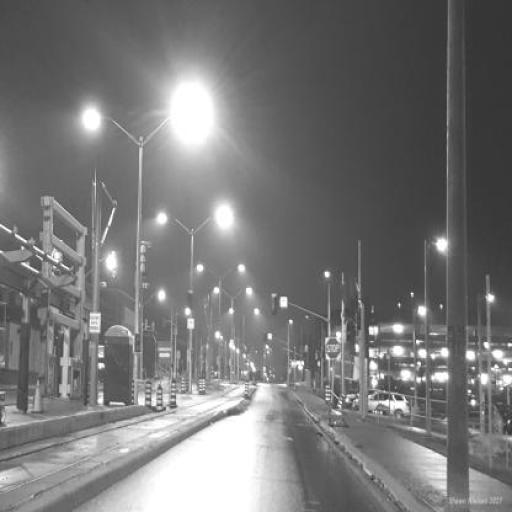street light: (85, 87, 210, 405), (158, 208, 224, 395), (197, 262, 244, 389), (424, 238, 450, 432), (81, 255, 115, 372), (213, 284, 252, 381), (324, 270, 345, 398), (139, 291, 166, 379), (229, 306, 258, 380), (171, 307, 191, 379)
